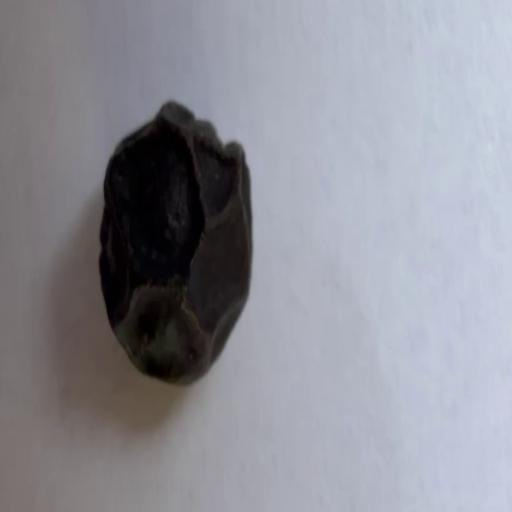Black_pepper: (80, 78, 271, 405)
